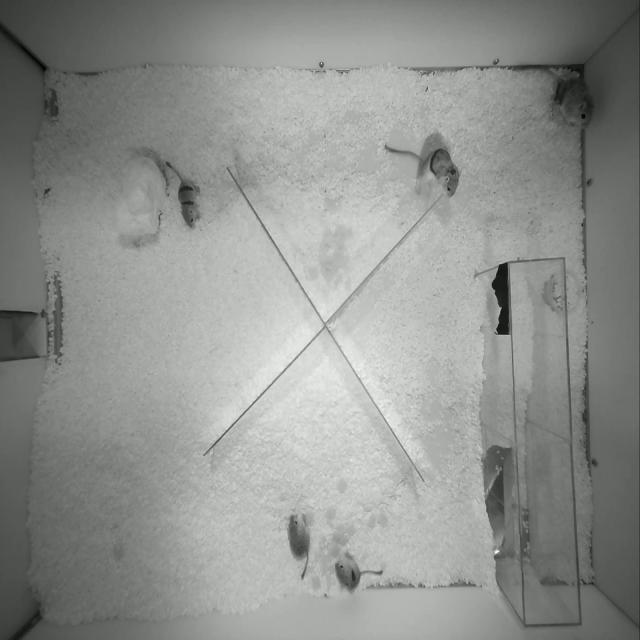adult_back: (545, 70, 594, 127)
adult_front: (385, 145, 459, 197)
pup_fluffy: (288, 513, 310, 579)
pup_h_stripe: (167, 162, 200, 227)
pup_spotted: (334, 550, 383, 592)
